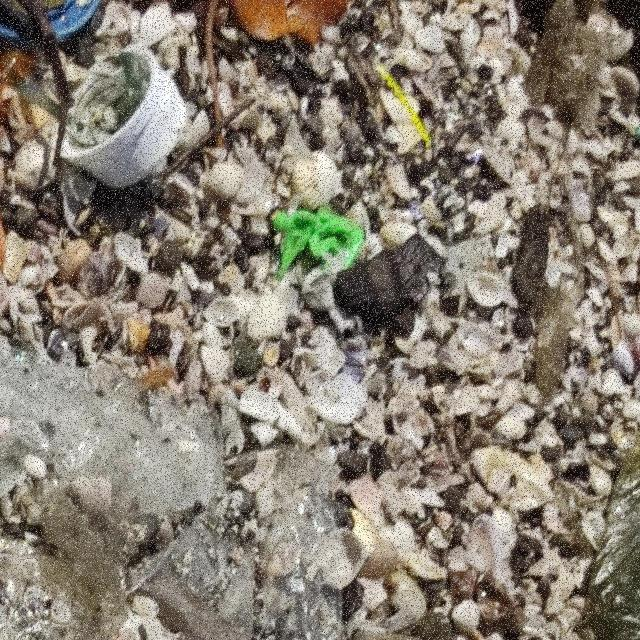plastic_waste: (60, 43, 188, 191)
